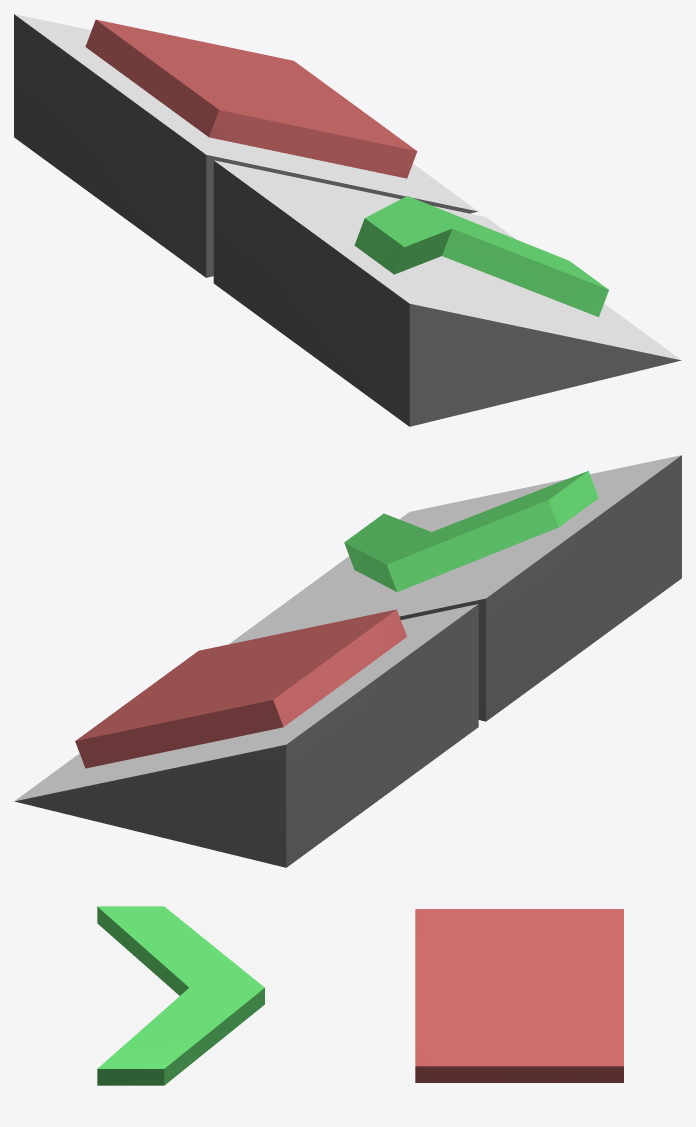
Rendered from ProgramSpaceController.fbx.
3 views of the same model, one above another, from view 1: azimuth 30°, elevation 25°; view 2: azimuth 150°, elevation 25°; view 3: azimuth 270°, elevation 25° (orthographic). The views are drawn at different scales.
Visible parts, largest first — view 1: ProgramSpaceController; view 2: ProgramSpaceController; view 3: ProgramSpaceController.
Part boxes in pixels (x1,y1,x2,y2): ProgramSpaceController: [14, 14, 681, 426]; ProgramSpaceController: [14, 455, 681, 867]; ProgramSpaceController: [14, 896, 681, 1112].
Size of the model in its own units: 21 by 9.79 by 52.83.
1 material, 1 textured.
